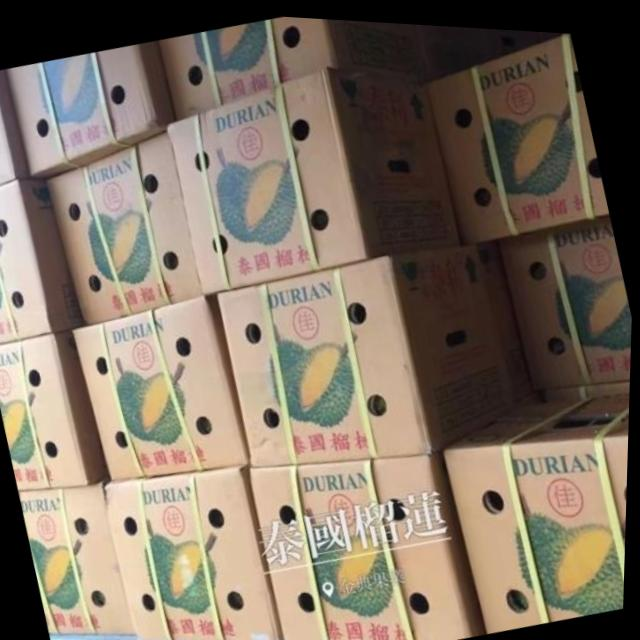box: (216, 238, 520, 465), (165, 63, 460, 293), (252, 446, 489, 640), (444, 385, 632, 627), (427, 26, 611, 240), (73, 292, 250, 480), (107, 460, 284, 640), (45, 126, 205, 321), (156, 13, 395, 120), (497, 212, 633, 385), (5, 39, 171, 178), (0, 329, 110, 492), (21, 483, 138, 635), (0, 178, 83, 344), (0, 69, 31, 183)
